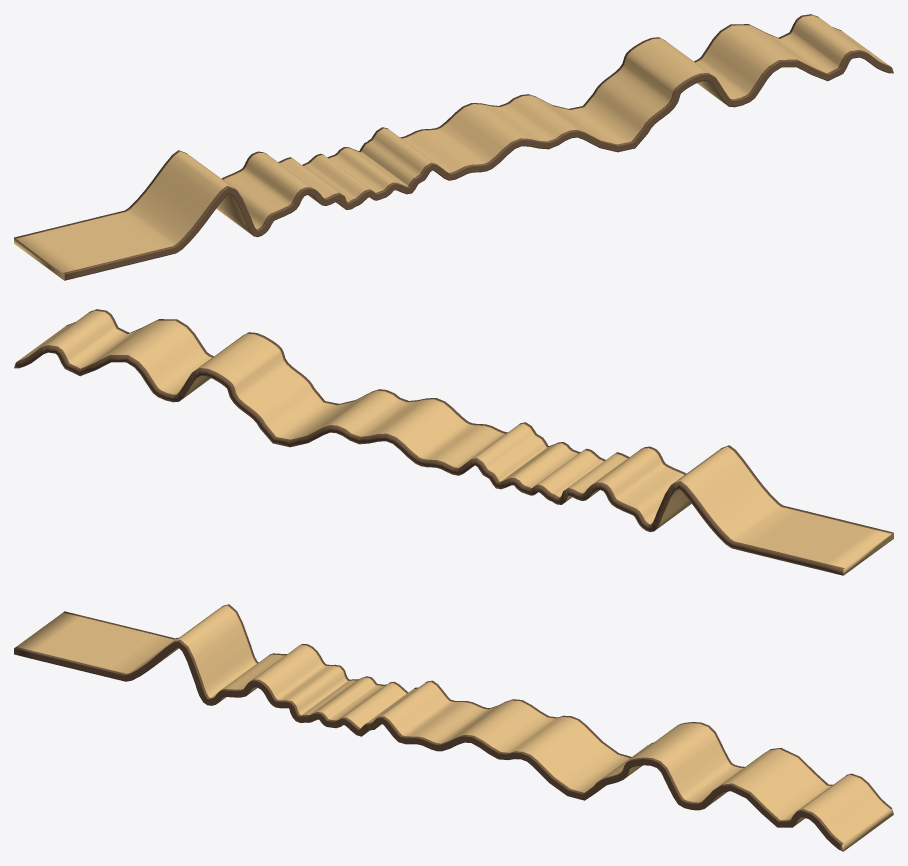
File: Path_0.1.fbx
3 renders of one model, top to bottom at view 1: azimuth 30°, elevation 25°; view 2: azimuth 150°, elevation 25°; view 3: azimuth 330°, elevation 25°, orthographic.
Visible parts, largest first — view 1: Line.001; view 2: Line.001; view 3: Line.001.
Part boxes in pixels (x1=…): Line.001: x1=14, y1=14, x2=893, y2=280; Line.001: x1=14, y1=309, x2=893, y2=575; Line.001: x1=14, y1=604, x2=893, y2=851.
Size of the model in its own units: 2818 by 196 by 299.
